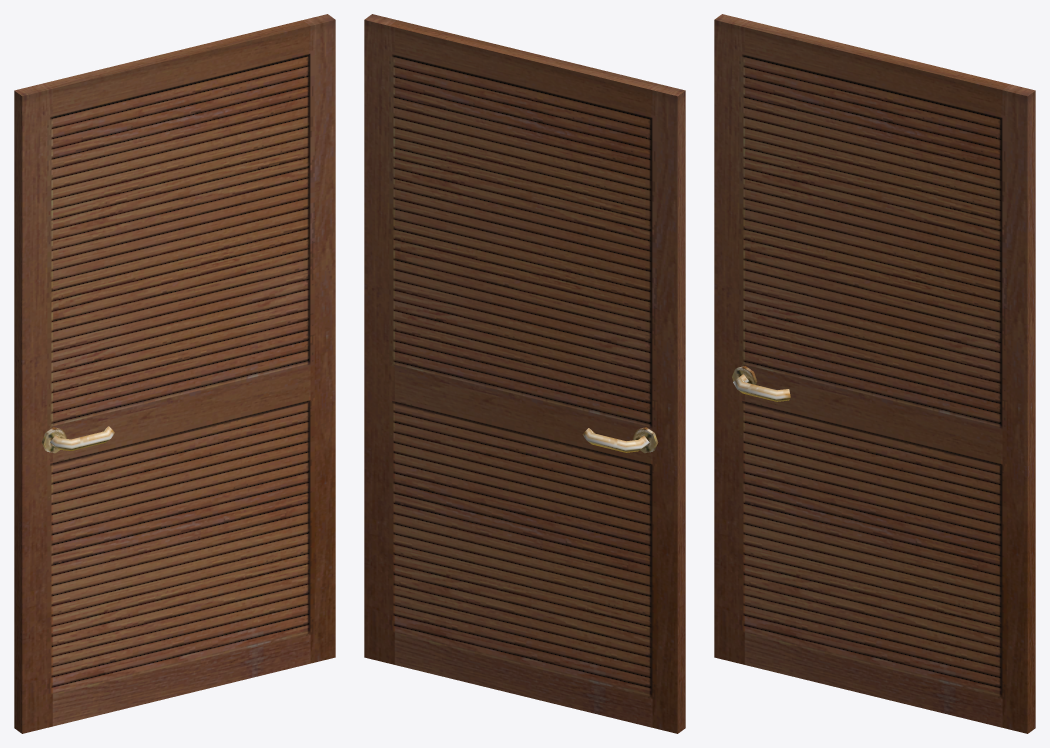
Rendered from sad-porta-proporcional.glb.
3 renders of one model, left to right at view 1: azimuth 30°, elevation 25°; view 2: azimuth 150°, elevation 25°; view 3: azimuth 330°, elevation 25°, orthographic.
Parts seen in each view (by area): view 1: sector_(-1, -1); view 2: sector_(-1, -1); view 3: sector_(-1, -1).
Boxes of the visible parts, <box> form: sector_(-1, -1): <box>14,14,335,733</box>; sector_(-1, -1): <box>364,14,685,733</box>; sector_(-1, -1): <box>714,14,1035,733</box>.
Size of the model in its own units: 1.59 by 3.08 by 0.3275.
Materials: 1 (1 with a texture image).
